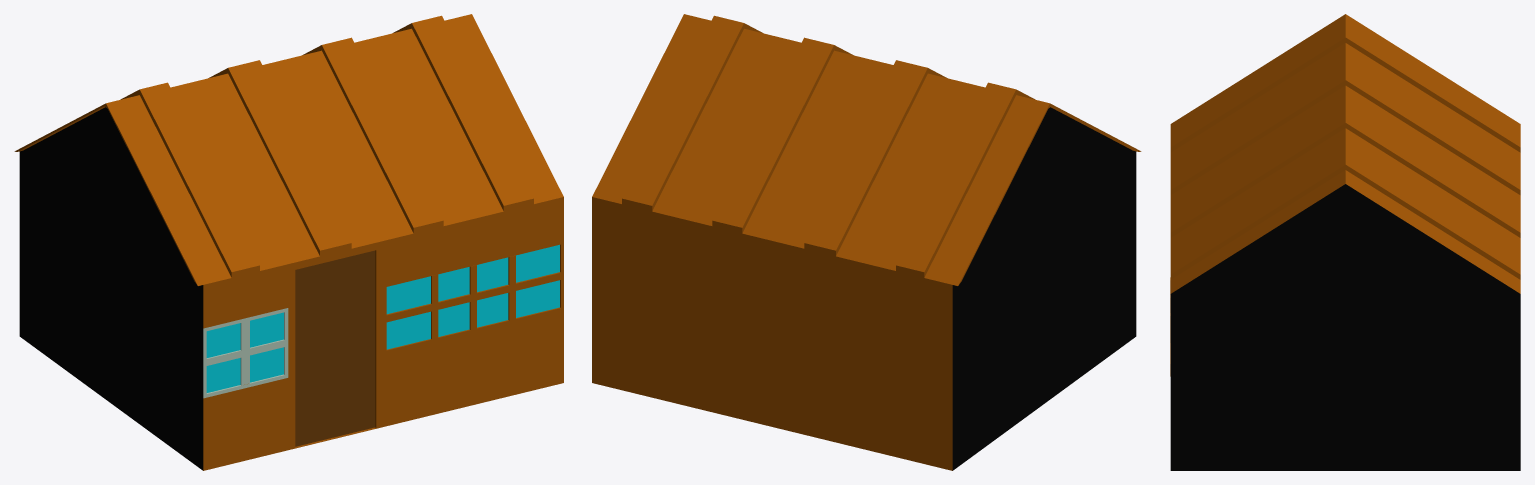
File: house1.fbx
3 renders of one model, left to right at view 1: azimuth 30°, elevation 25°; view 2: azimuth 150°, elevation 25°; view 3: azimuth 270°, elevation 25°, orthographic. The views are drawn at different scales.
Parts seen in each view (by area): view 1: Cube; view 2: Cube; view 3: Cube.
Part boxes in pixels (<box>): Cube: <box>14,14,563,470</box>; Cube: <box>592,14,1141,470</box>; Cube: <box>1170,14,1520,470</box>.
Size of the model in its own units: 607 by 487 by 529.
